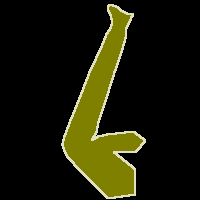tie: (62, 4, 145, 198)
